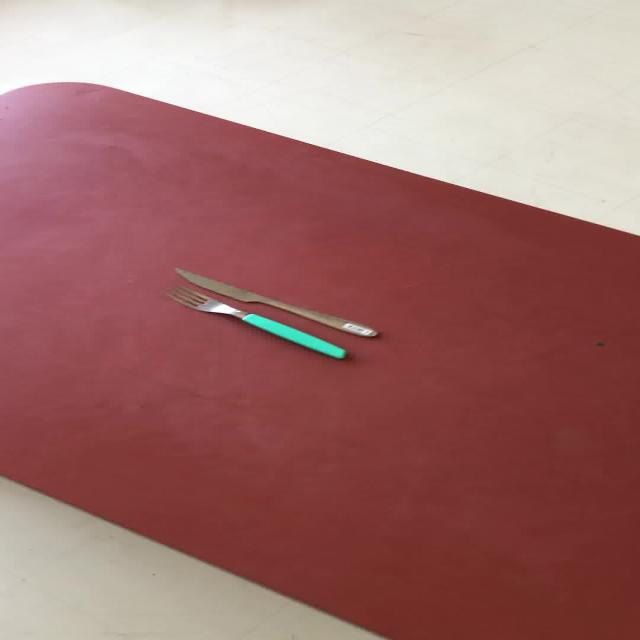fork: (162, 284, 348, 361)
knife fork: (171, 266, 378, 338)
